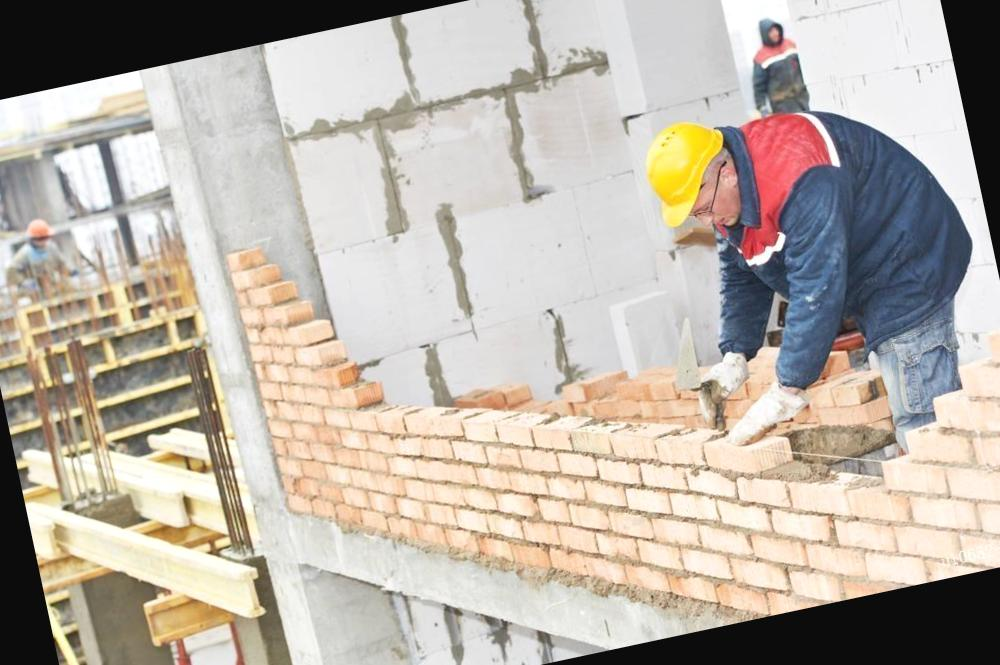helmet: (632, 107, 746, 234)
no_vest: (730, 82, 968, 336)
person: (628, 61, 1000, 467)
